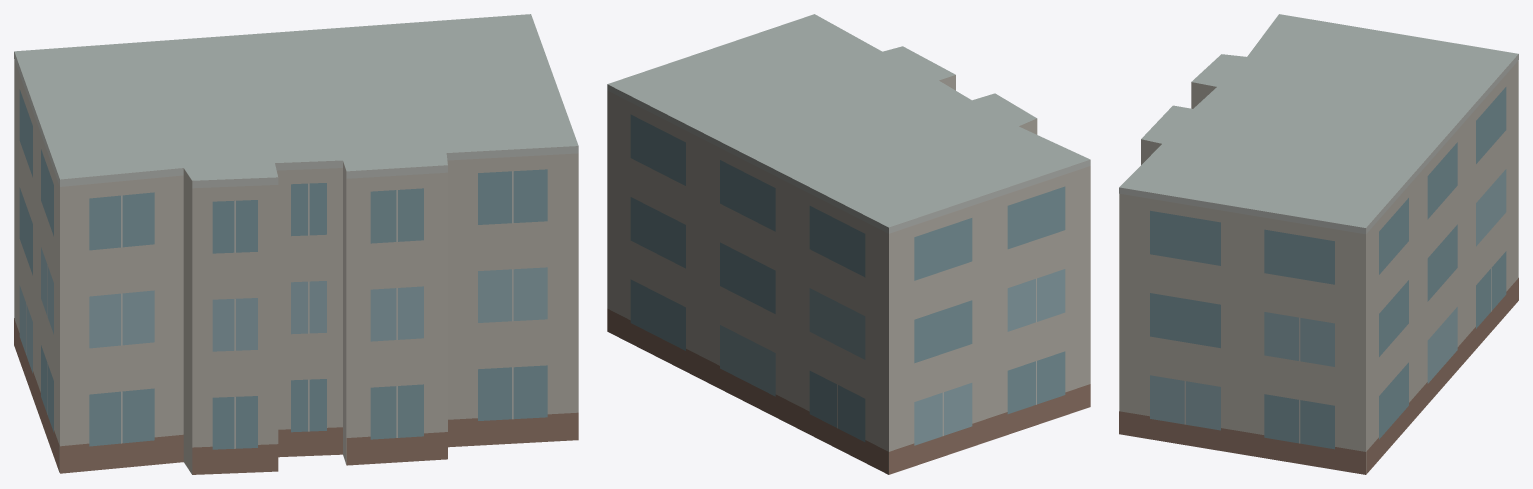
File: survey-upis-32941804.glb
The picture shows the model from 3 angles, left to right: view 1: azimuth 30°, elevation 25°; view 2: azimuth 150°, elevation 25°; view 3: azimuth 270°, elevation 25°; orthographic projection. The views are drawn at different scales.
Visible parts, largest first — view 1: survey-upis-32941804.tmp; view 2: survey-upis-32941804.tmp; view 3: survey-upis-32941804.tmp.
Part boxes in pixels (x1,y1,x2,y2): survey-upis-32941804.tmp: (14, 14, 578, 474); survey-upis-32941804.tmp: (607, 14, 1090, 474); survey-upis-32941804.tmp: (1119, 14, 1518, 474).
Bounding box in the file's own units: 17.87 × 9.6 × 14.1.
